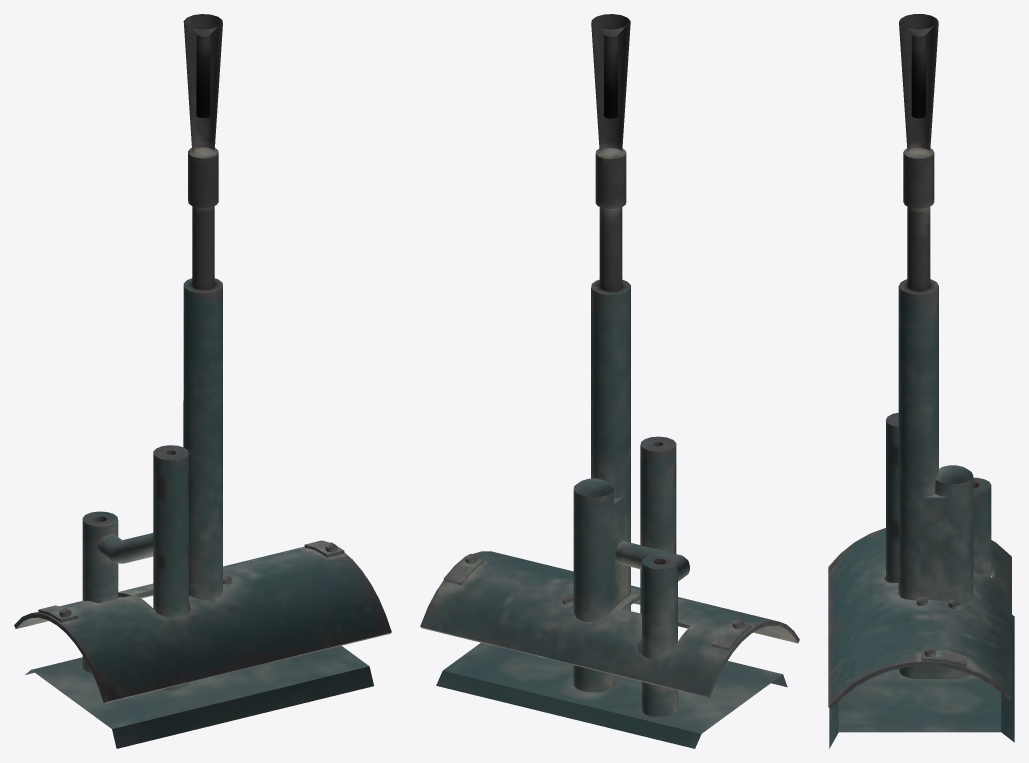
File: Gun_02.glb
The picture shows the model from 3 angles, left to right: view 1: azimuth 30°, elevation 25°; view 2: azimuth 150°, elevation 25°; view 3: azimuth 270°, elevation 25°; orthographic projection.
Parts seen in each view (by area): view 1: set_0_group_0; view 2: set_0_group_0; view 3: set_0_group_0.
Part boxes in pixels (bbox=[...]): set_0_group_0: bbox=[14, 14, 391, 748]; set_0_group_0: bbox=[420, 14, 799, 748]; set_0_group_0: bbox=[828, 14, 1014, 748].
Size of the model in its own units: 0.58 by 1.28 by 0.3253.
1 material, 1 textured.
